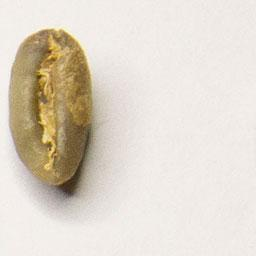longberry: (5, 26, 98, 191)
